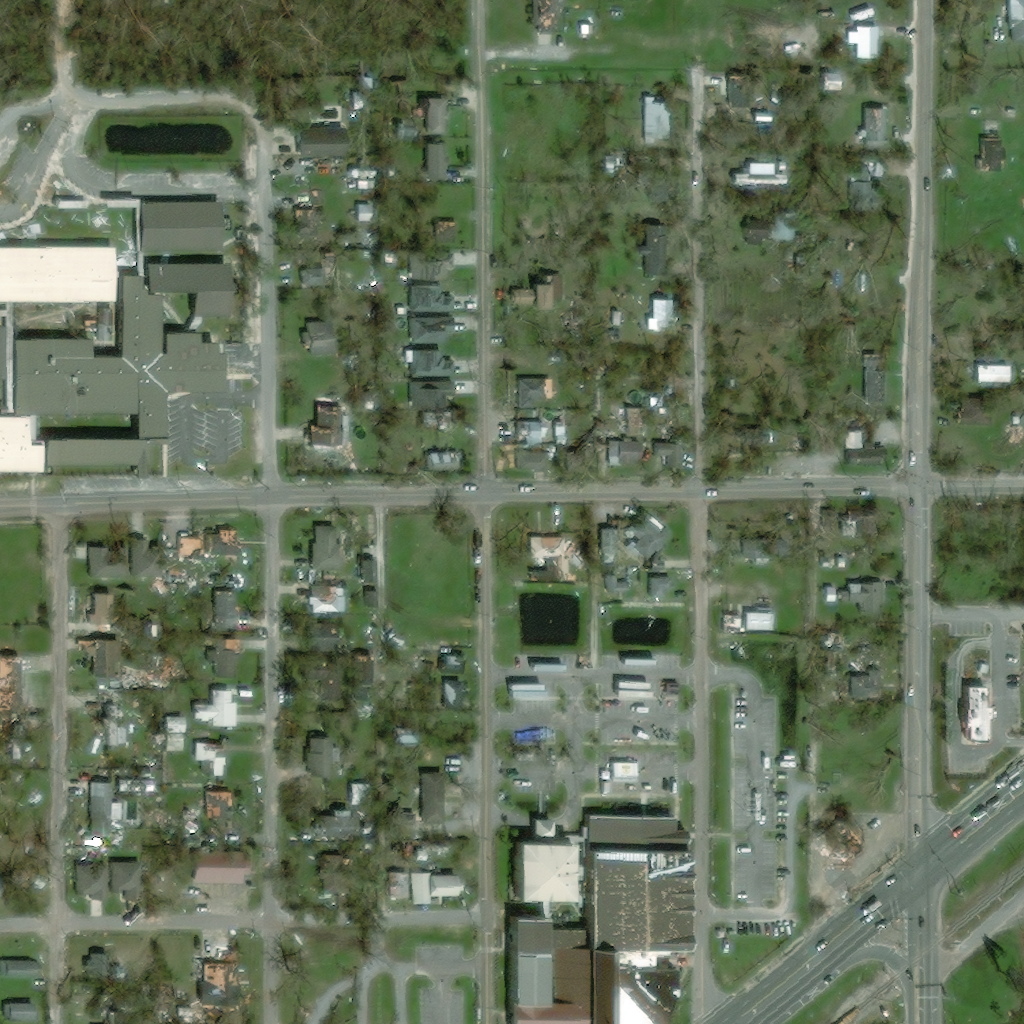destroyed: (841, 271, 867, 293), (660, 420, 677, 439), (168, 573, 185, 586), (166, 770, 180, 784)
major_damage: (195, 947, 237, 1002), (527, 531, 569, 577), (97, 705, 121, 747), (118, 780, 157, 794)
minor_damage: (502, 814, 688, 1023), (8, 273, 223, 436), (0, 247, 112, 304), (507, 818, 576, 901), (142, 263, 226, 316), (627, 512, 671, 573), (80, 639, 126, 686), (296, 119, 350, 158), (193, 850, 252, 885), (510, 275, 565, 310), (859, 354, 890, 413), (742, 213, 795, 247), (637, 225, 669, 277), (193, 690, 237, 727), (506, 953, 539, 1002), (309, 407, 351, 445), (402, 350, 456, 378), (976, 122, 1006, 171), (409, 252, 459, 280), (411, 284, 457, 313), (310, 810, 351, 841), (410, 317, 455, 345), (531, 0, 565, 37), (300, 319, 333, 357), (72, 545, 110, 578), (207, 592, 238, 632), (208, 641, 240, 679), (303, 738, 333, 778), (418, 99, 451, 135), (504, 917, 540, 950), (517, 379, 553, 412), (76, 865, 108, 902), (131, 539, 162, 577), (731, 160, 774, 187), (859, 108, 887, 148), (743, 538, 787, 563), (609, 434, 642, 467), (644, 297, 674, 333), (195, 743, 226, 777), (516, 448, 550, 479), (433, 680, 467, 710), (309, 586, 345, 613), (86, 594, 116, 626), (847, 444, 888, 467), (511, 423, 548, 446), (619, 406, 647, 435), (355, 655, 373, 700), (852, 159, 886, 182), (0, 655, 23, 688), (318, 666, 341, 698), (544, 409, 565, 443), (177, 534, 203, 560), (202, 792, 229, 816), (976, 365, 1010, 384), (81, 777, 113, 797), (425, 452, 458, 471), (387, 872, 409, 899), (435, 221, 458, 246), (844, 422, 864, 449), (649, 577, 673, 599), (7, 1003, 37, 1020), (607, 574, 632, 593), (350, 783, 369, 807), (207, 534, 223, 558), (165, 734, 185, 753), (439, 656, 460, 674), (362, 561, 378, 582), (224, 531, 240, 551), (580, 25, 596, 41), (173, 717, 187, 732), (366, 591, 377, 607), (111, 803, 123, 815), (766, 595, 780, 602)
no_damage: (41, 438, 165, 478), (138, 200, 222, 252), (0, 416, 41, 473), (958, 686, 993, 741), (410, 872, 467, 905), (311, 525, 345, 571), (841, 581, 886, 615), (110, 861, 138, 902), (422, 773, 445, 822), (426, 142, 450, 179), (0, 961, 42, 977), (824, 586, 835, 603), (837, 558, 847, 568)
